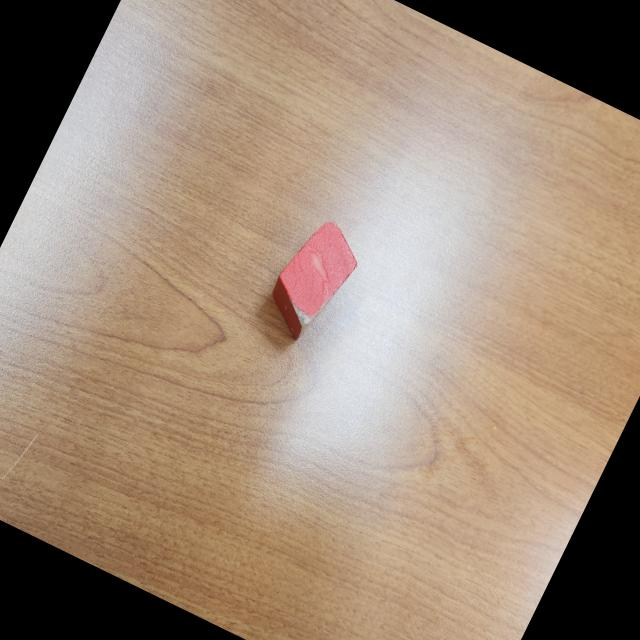broken: (258, 210, 370, 348)
